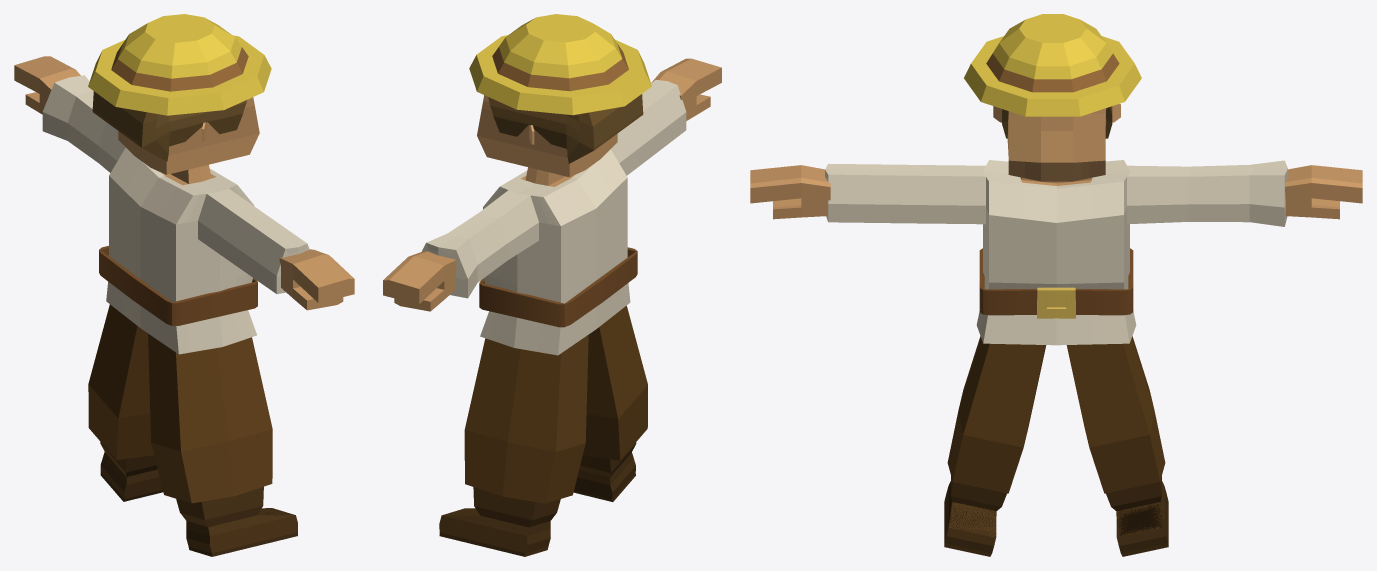
The model's file is Farmer (5).fbx.
The picture shows the model from 3 angles, left to right: view 1: azimuth 30°, elevation 25°; view 2: azimuth 150°, elevation 25°; view 3: azimuth 270°, elevation 25°; orthographic projection.
Visible parts, largest first — view 1: Cube.008, Cube, Circle, Cube.005, Cube.009, Cube.007, Cube.006; view 2: Cube.008, Cube, Circle, Cube.005, Cube.009, Cube.006, Cube.007; view 3: Cube, Cube.008, Circle, Cube.005, Cube.007, Cube.006, Cube.009, Cube.010.
Part boxes in pixels (x1,y1,x2,y2): Cube.008: (88,304,297,556); Cube: (42,75,309,354); Circle: (88,14,271,115); Cube.005: (92,91,259,174); Cube.009: (99,246,257,325); Cube.007: (279,249,354,310); Cube.006: (14,56,80,114); Cube.008: (439,305,647,556); Cube: (422,80,686,355); Circle: (469,14,651,115); Cube.005: (477,94,643,177); Cube.009: (479,247,637,327); Cube.006: (383,251,456,311); Cube.007: (651,58,721,120); Cube: (825,160,1288,345); Cube.008: (944,336,1168,556); Circle: (964,14,1141,116); Cube.005: (1002,106,1112,181); Cube.007: (750,165,830,219); Cube.006: (1285,165,1362,219); Cube.009: (979,248,1133,315); Cube.010: (1037,287,1075,318).
Bounding box in the file's own units: 62.03 × 187 × 209.
